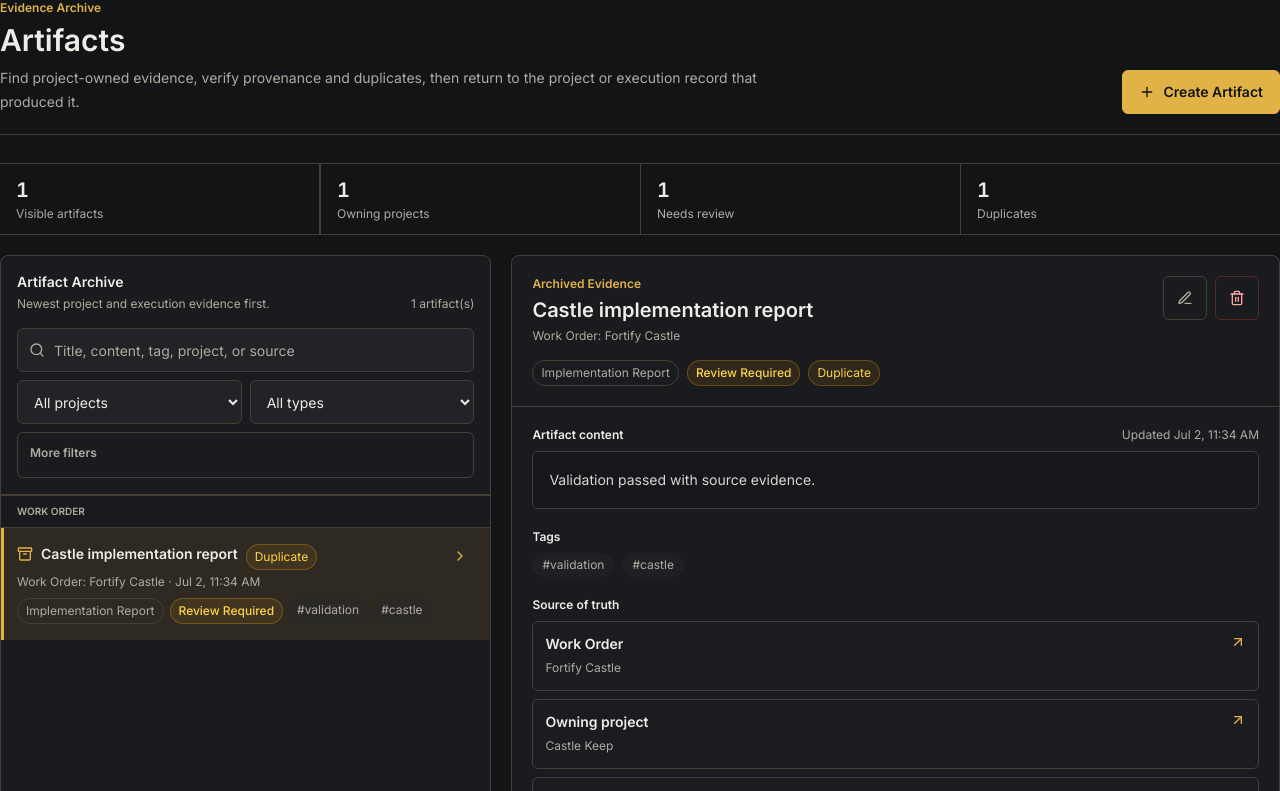
Test: ArtifactsPage › keeps artifact creation and editing inside explicit dialogs
Expected: the 2nd heading "Castle implementation report" is shown, top-left (41, 544), bottom-right (238, 564)
Click the button named "Edit artifact".
click(1185, 298)  # box top-left (1163, 276), bottom-right (1207, 320)
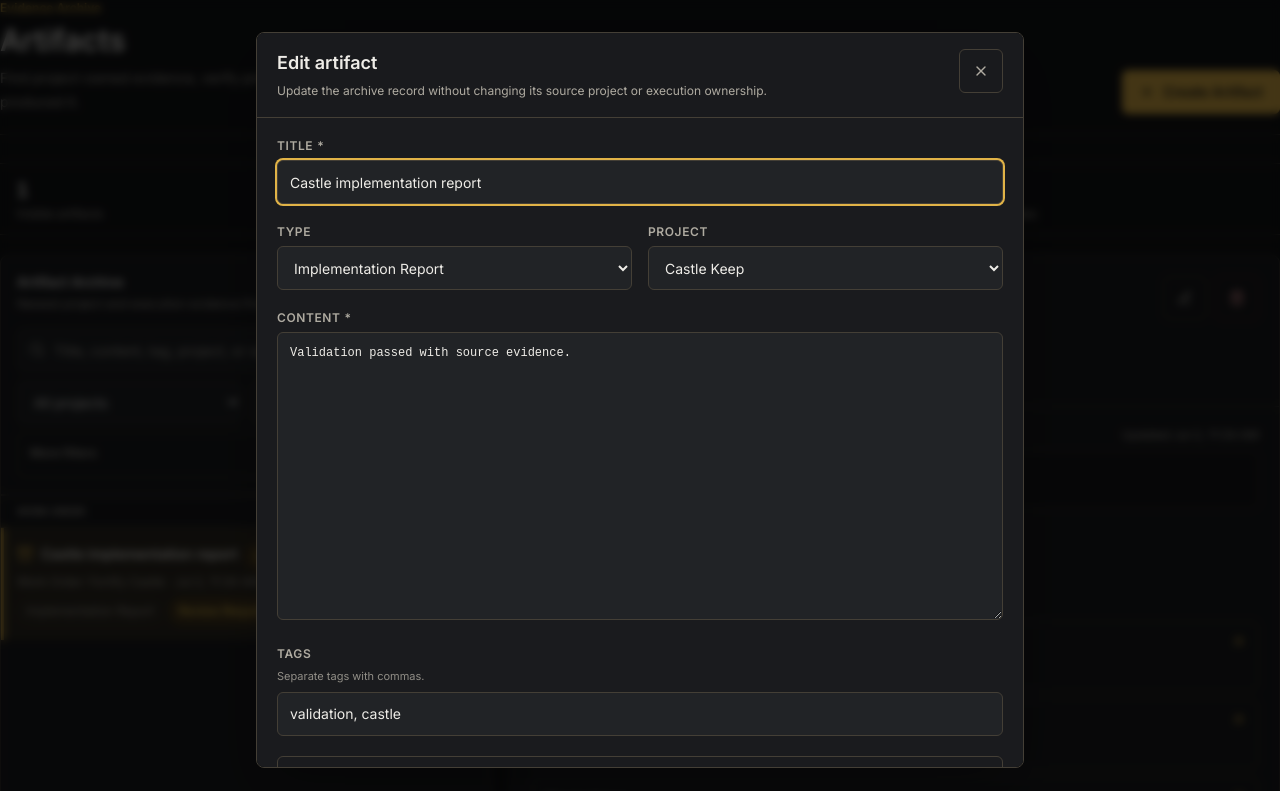
Expected: the dialog "Edit artifact" is shown, top-left (256, 32), bottom-right (1024, 768)
Expected: the field showing "Castle implementation report" is shown, top-left (277, 160), bottom-right (1003, 204)
Click the button named "Close artifact editor".
click(981, 71)  # box top-left (959, 49), bottom-right (1003, 93)
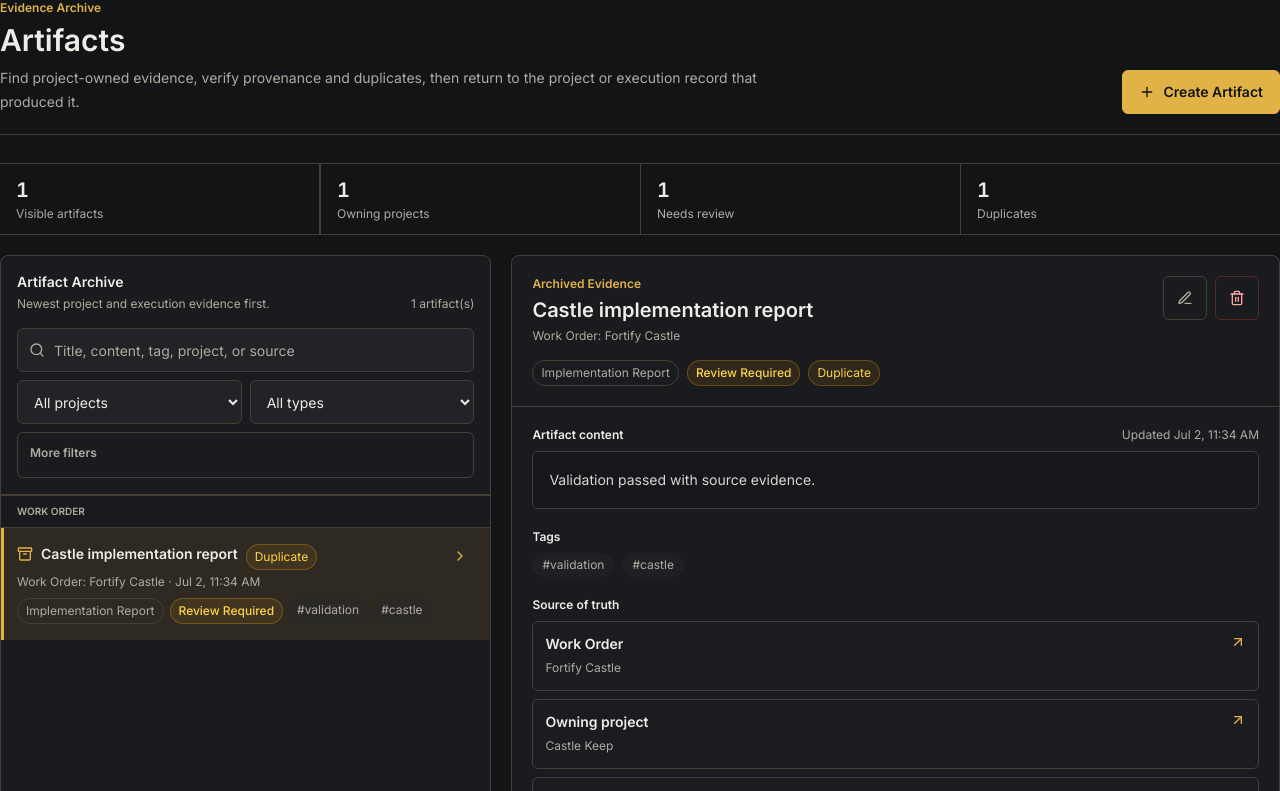
Click the button "Create Artifact".
click(1201, 92)  # box top-left (1122, 70), bottom-right (1279, 114)
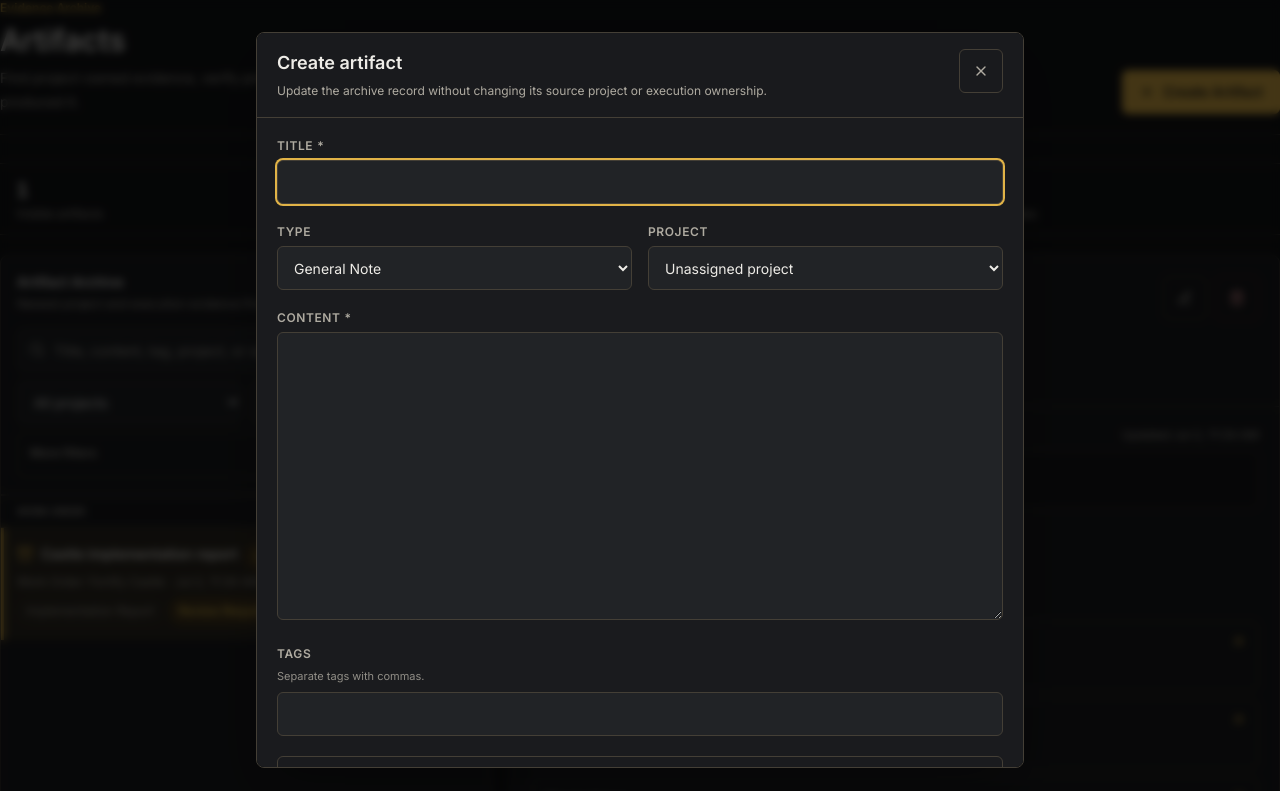
Expected: the dialog "Create artifact" is shown, top-left (256, 32), bottom-right (1024, 768)
